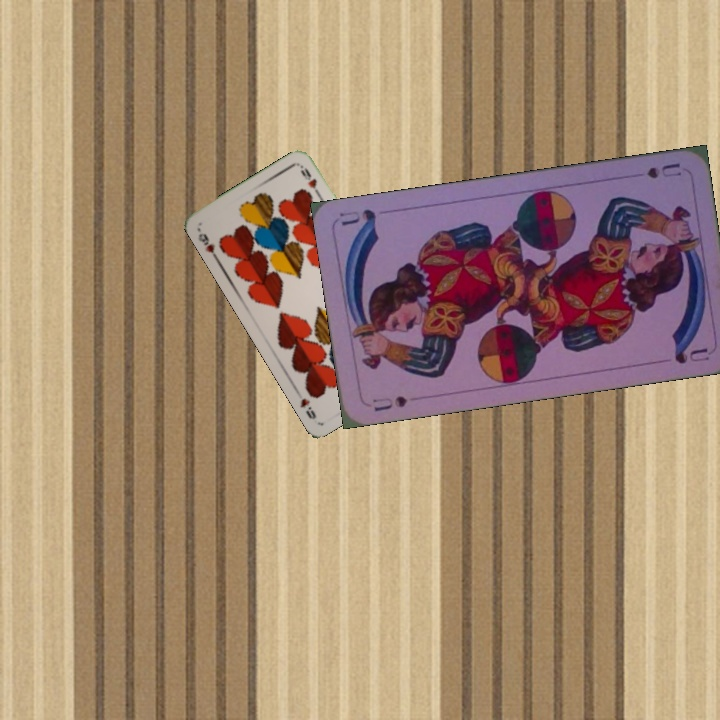H9: (194, 225, 221, 262)
SU: (368, 392, 410, 414), (643, 159, 684, 181)
